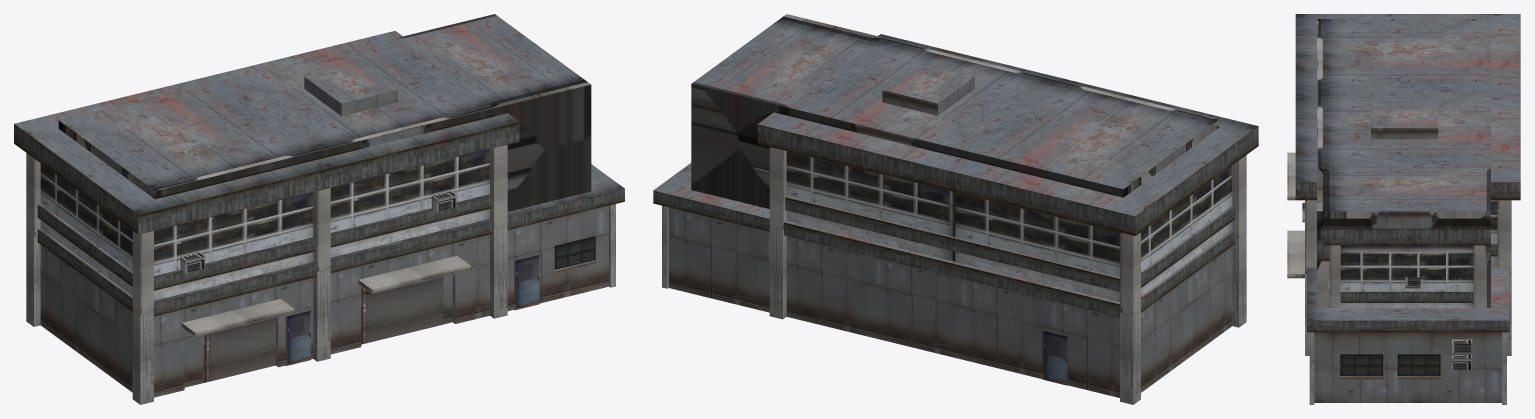
File: dz_industrial_12.fbx
3 renders of one model, left to right at view 1: azimuth 30°, elevation 25°; view 2: azimuth 150°, elevation 25°; view 3: azimuth 270°, elevation 25°, orthographic. The views are drawn at different scales.
Parts seen in each view (by area): view 1: dz_industrial_12_LOD0; view 2: dz_industrial_12_LOD0; view 3: dz_industrial_12_LOD0.
Boxes of the visible parts, <box> form: dz_industrial_12_LOD0: <box>14,14,624,404</box>; dz_industrial_12_LOD0: <box>653,14,1258,404</box>; dz_industrial_12_LOD0: <box>1287,14,1520,404</box>.
Size of what is drawn, in the model's own units: 20.89 by 8.76 by 9.47.
Materials: 2 (2 with a texture image).
